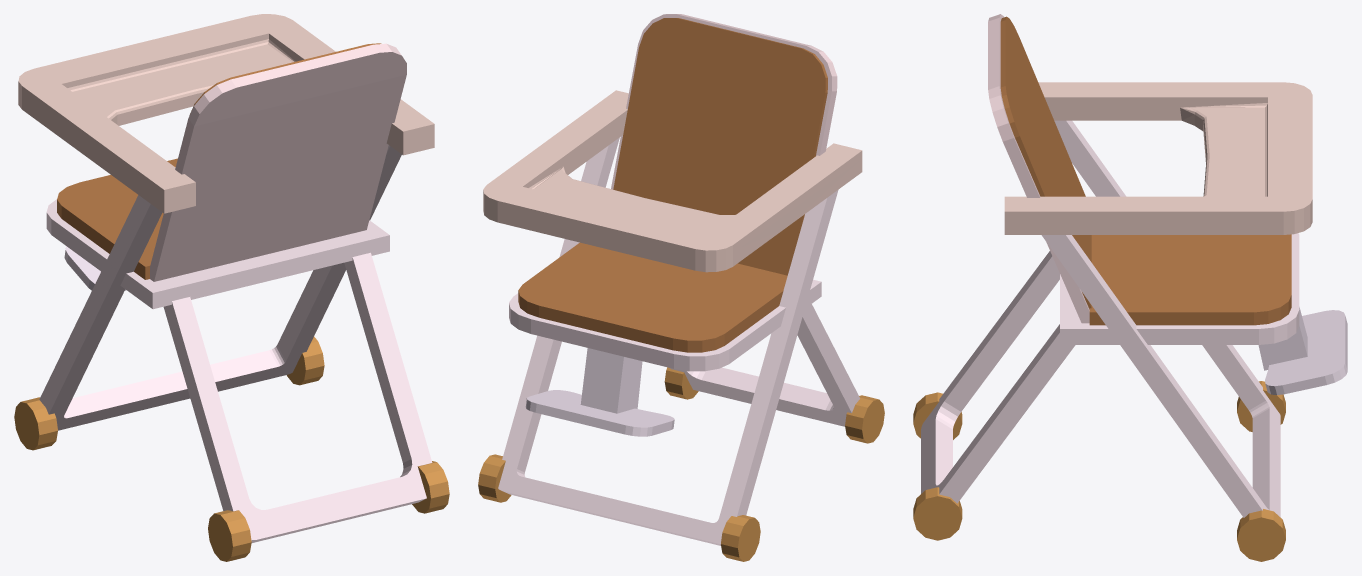
The model's file is DetskijStul.fbx.
The picture shows the model from 3 angles, left to right: view 1: azimuth 30°, elevation 25°; view 2: azimuth 150°, elevation 25°; view 3: azimuth 270°, elevation 25°; orthographic projection. The views are drawn at different scales.
Visible parts, largest first — view 1: Cube.021; view 2: Cube.021; view 3: Cube.021.
Part boxes in pixels (bbox=[...]): Cube.021: bbox=[14, 14, 449, 561]; Cube.021: bbox=[478, 14, 884, 561]; Cube.021: bbox=[913, 14, 1347, 561].
Bounding box in the file's own units: 55.65 × 83.89 × 74.85.
